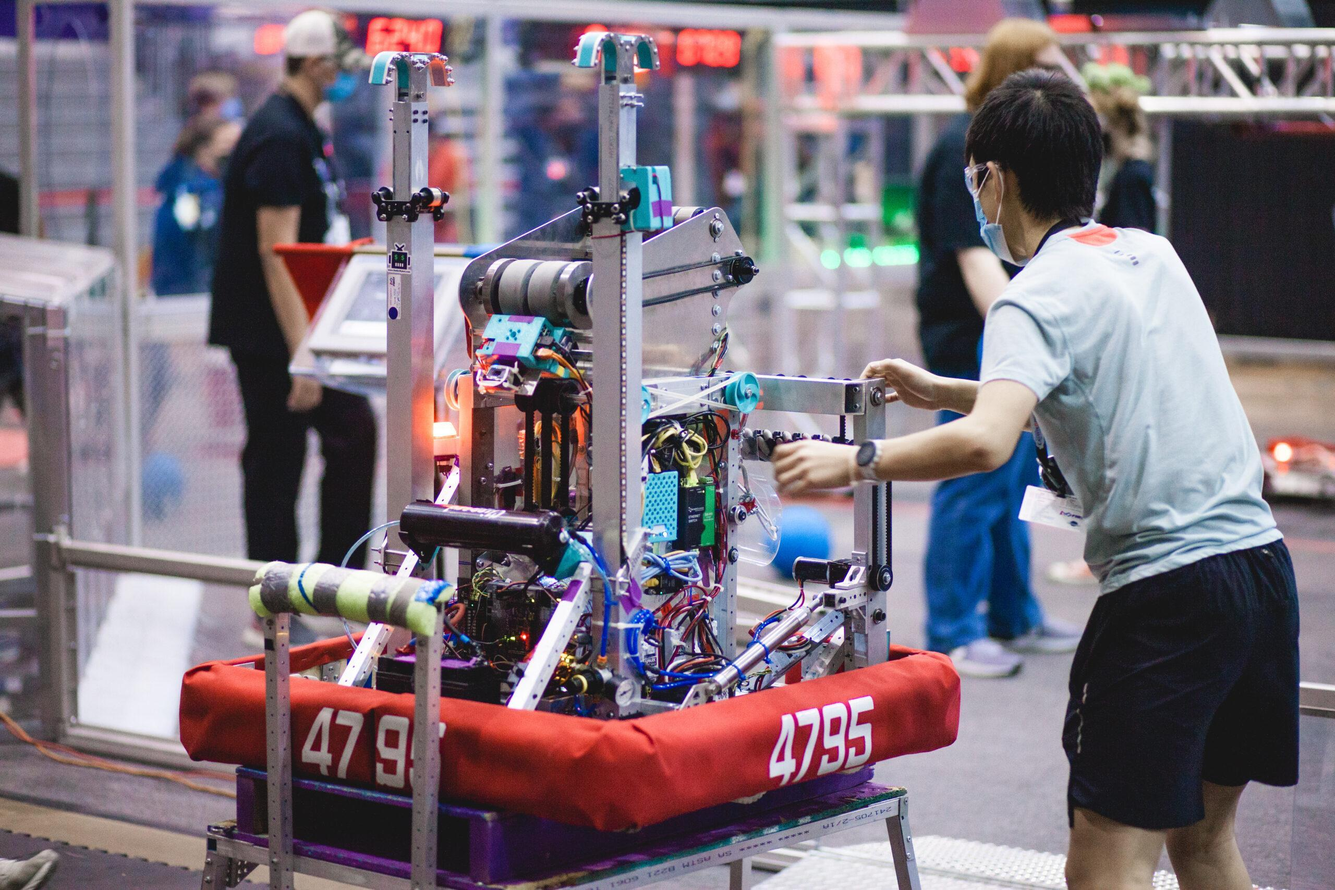robot: (176, 30, 970, 842)
